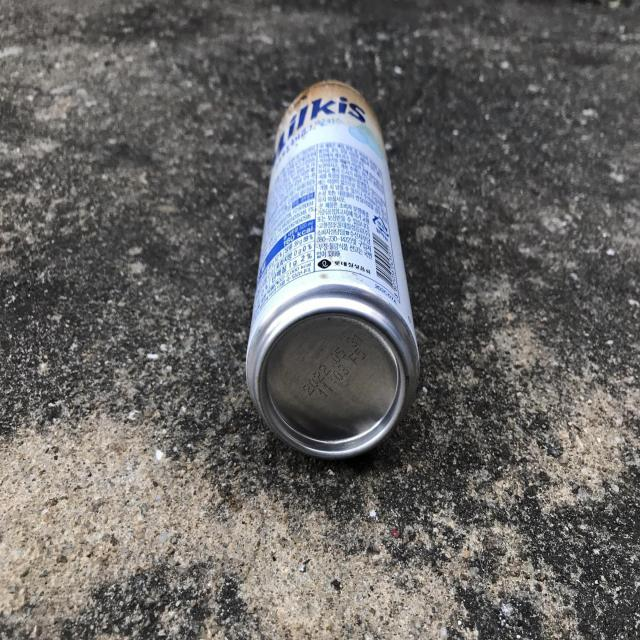can: (246, 80, 419, 458)
